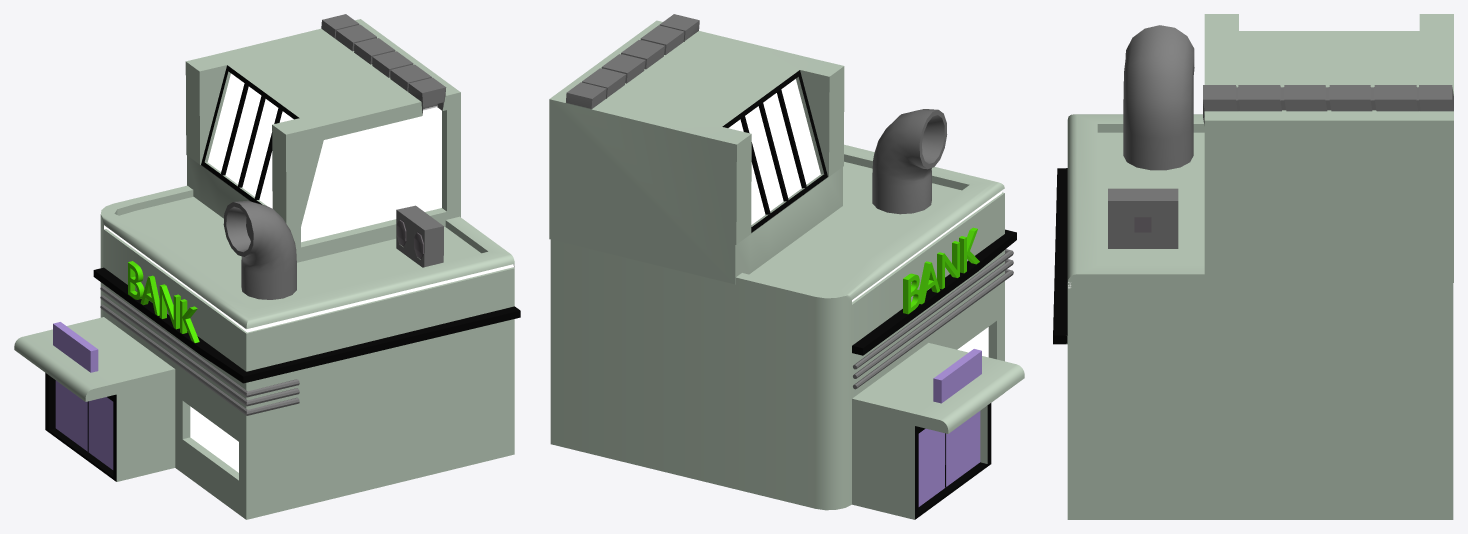
The model's file is Building 5.fbx.
3 views of the same model, side by side, from view 1: azimuth 30°, elevation 25°; view 2: azimuth 150°, elevation 25°; view 3: azimuth 270°, elevation 25° (orthographic). The views are drawn at different scales.
Visible parts, largest first — view 1: Cube.021; view 2: Cube.021; view 3: Cube.021.
Boxes of the visible parts, left/top/right/bottom form: Cube.021: left=14, top=14, right=520, bottom=519; Cube.021: left=549, top=14, right=1024, bottom=519; Cube.021: left=1053, top=14, right=1453, bottom=519.
Bounding box in the file's own units: 1472 × 1296 × 1144.
